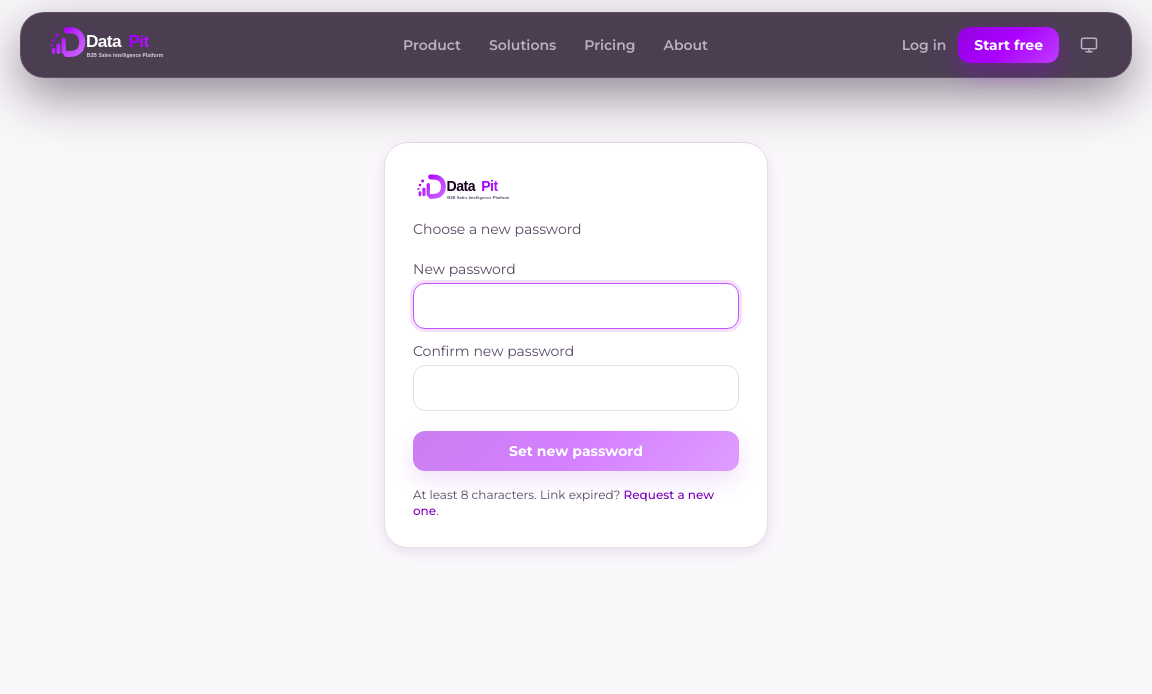
Test: ResetPassword › shows the server error for an invalid token
Type "a-fresh-password-1" into the password field labelled "New password" at (576, 306), box x1=413 y1=283 x2=739 y2=329
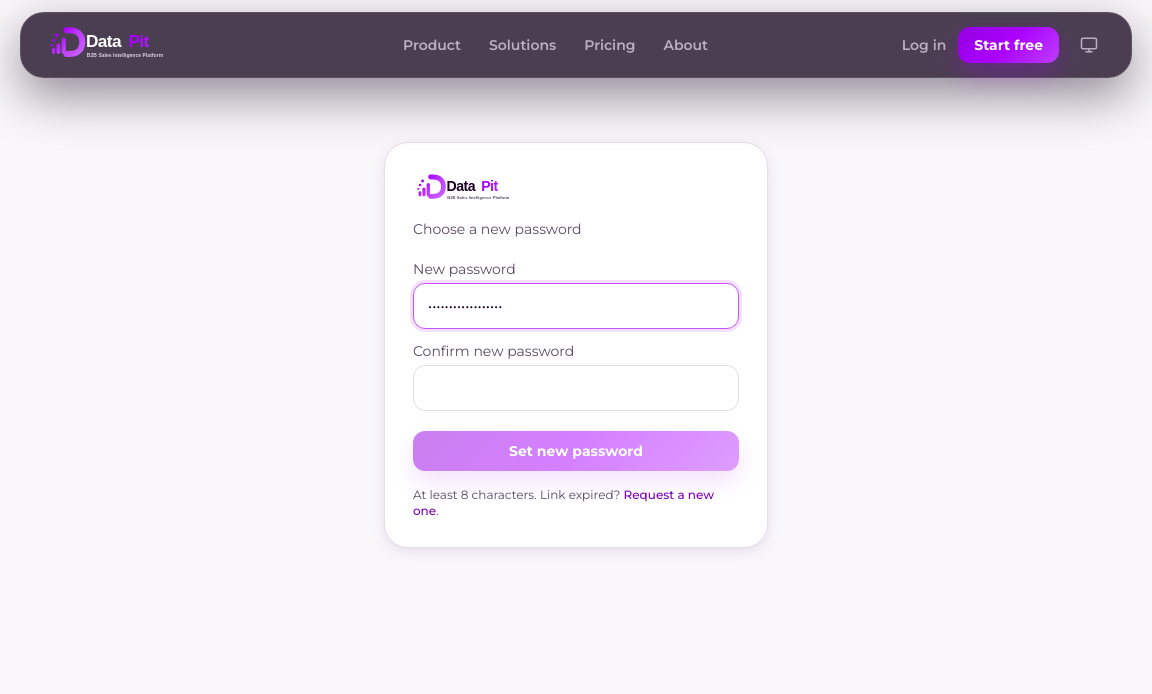
Type "a-fresh-password-1" into the password field labelled "Confirm new password" at (576, 388), box x1=413 y1=365 x2=739 y2=411
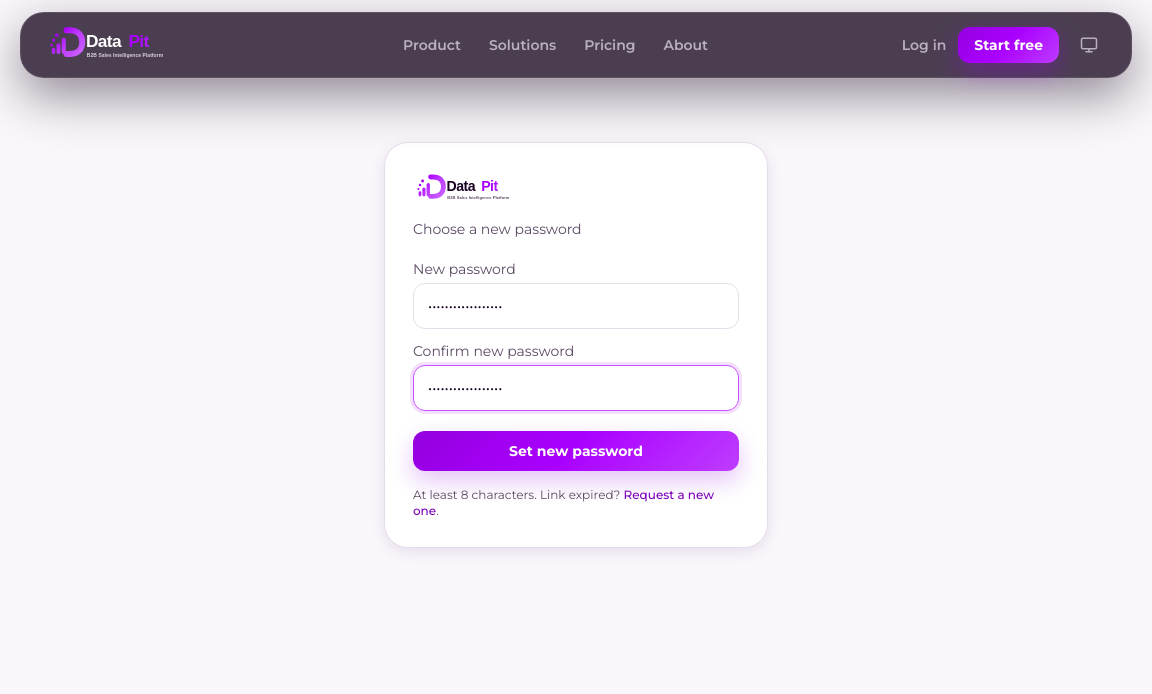
Click the button "Set new password" at (576, 451), box x1=413 y1=431 x2=739 y2=471
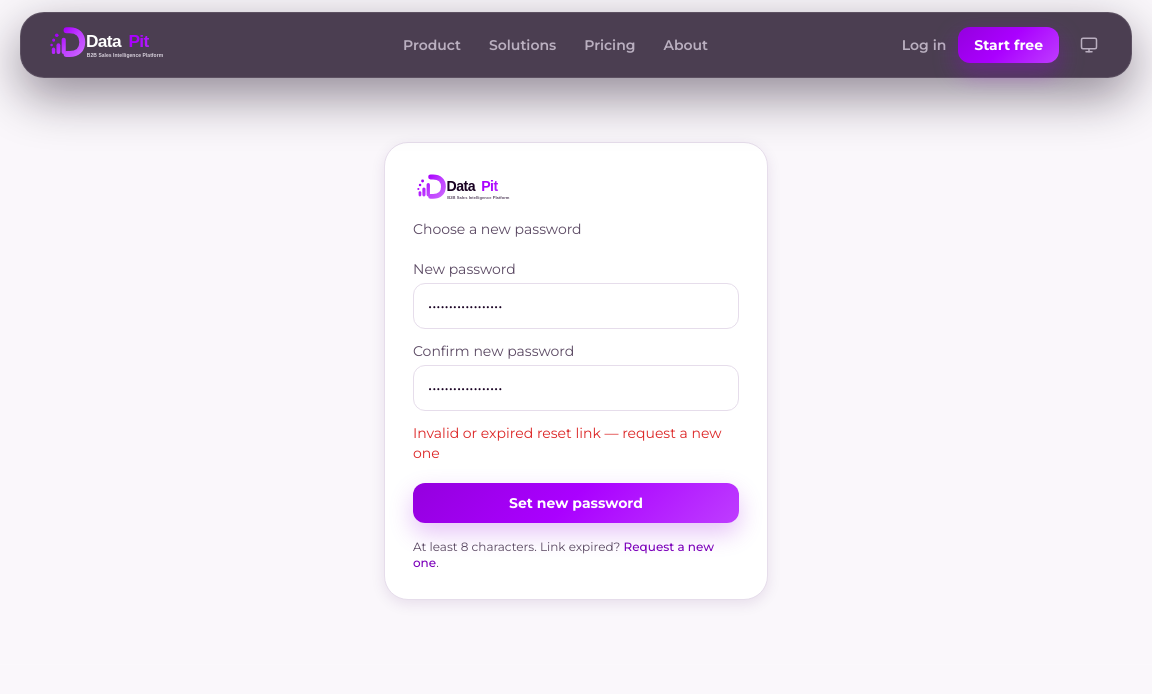
Now the text "Invalid or expired reset link — request a new one" is shown, box x1=413 y1=423 x2=739 y2=463
